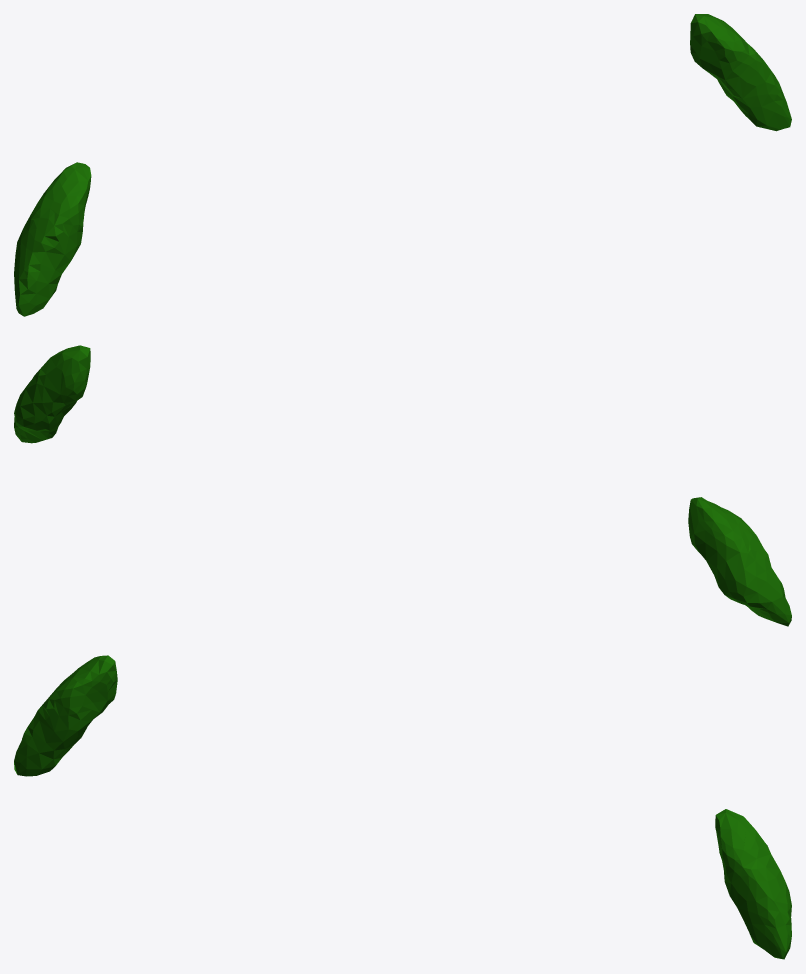
File: 33-PFCx-parietal area PF (cortex)-('0.1137', '0.4980', '0.0000').obj
3 views of the same model, one above another, from view 1: azimuth 30°, elevation 25°; view 2: azimuth 150°, elevation 25°; view 3: azimuth 330°, elevation 25° (orthographic).
Bounding box in the file's own units: 338 × 51.59 × 21.02.
